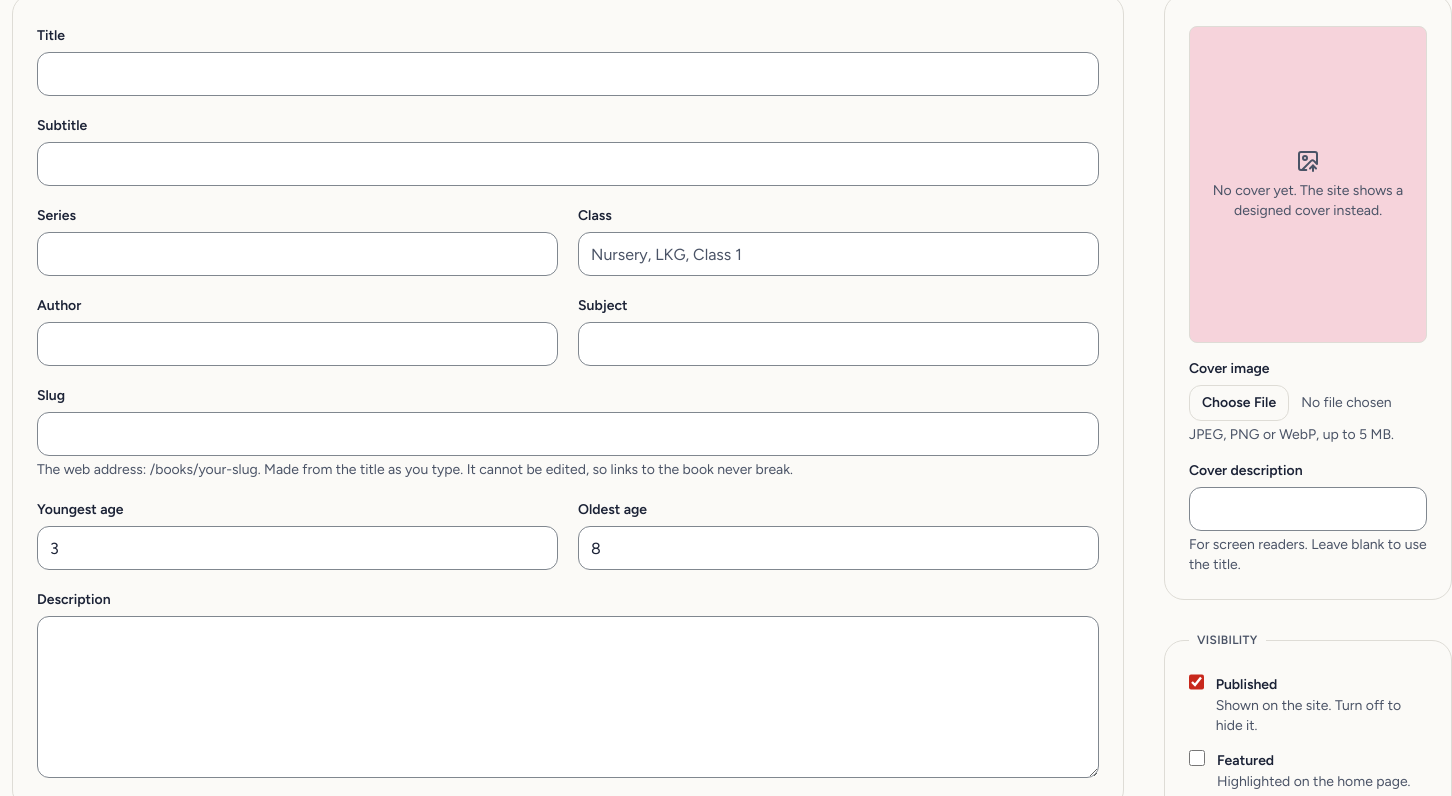
Test: BookForm › shows field errors from the API
This screenshot has width=1452, height=796.
Type "Seed to Tree" into the field labelled "Title".
click(568, 74); type("Seed to Tree")  # box left=37, top=52, right=1099, bottom=96
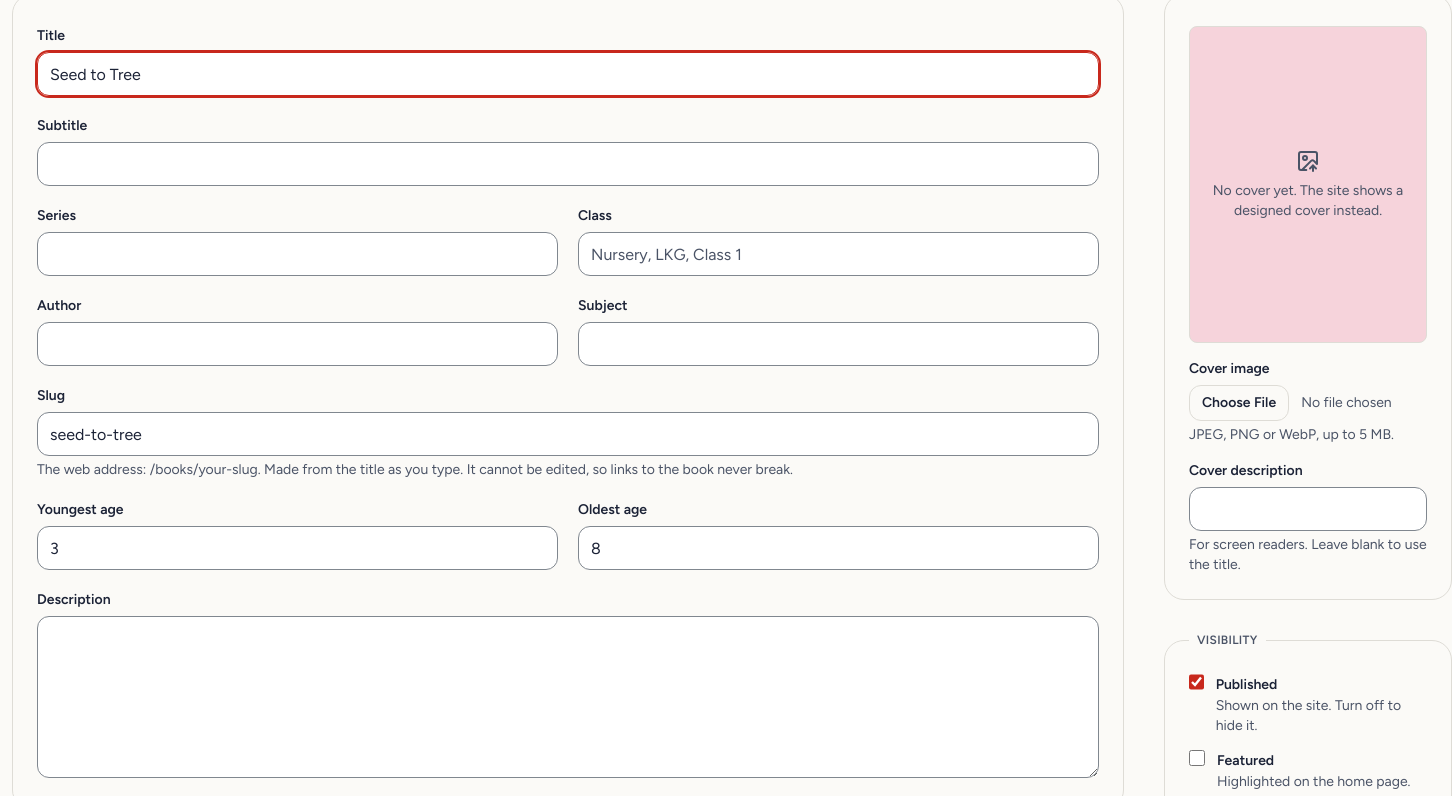
Type "A. Writer" into the field labelled "Author".
click(298, 344); type("A. Writer")  # box left=37, top=322, right=558, bottom=366
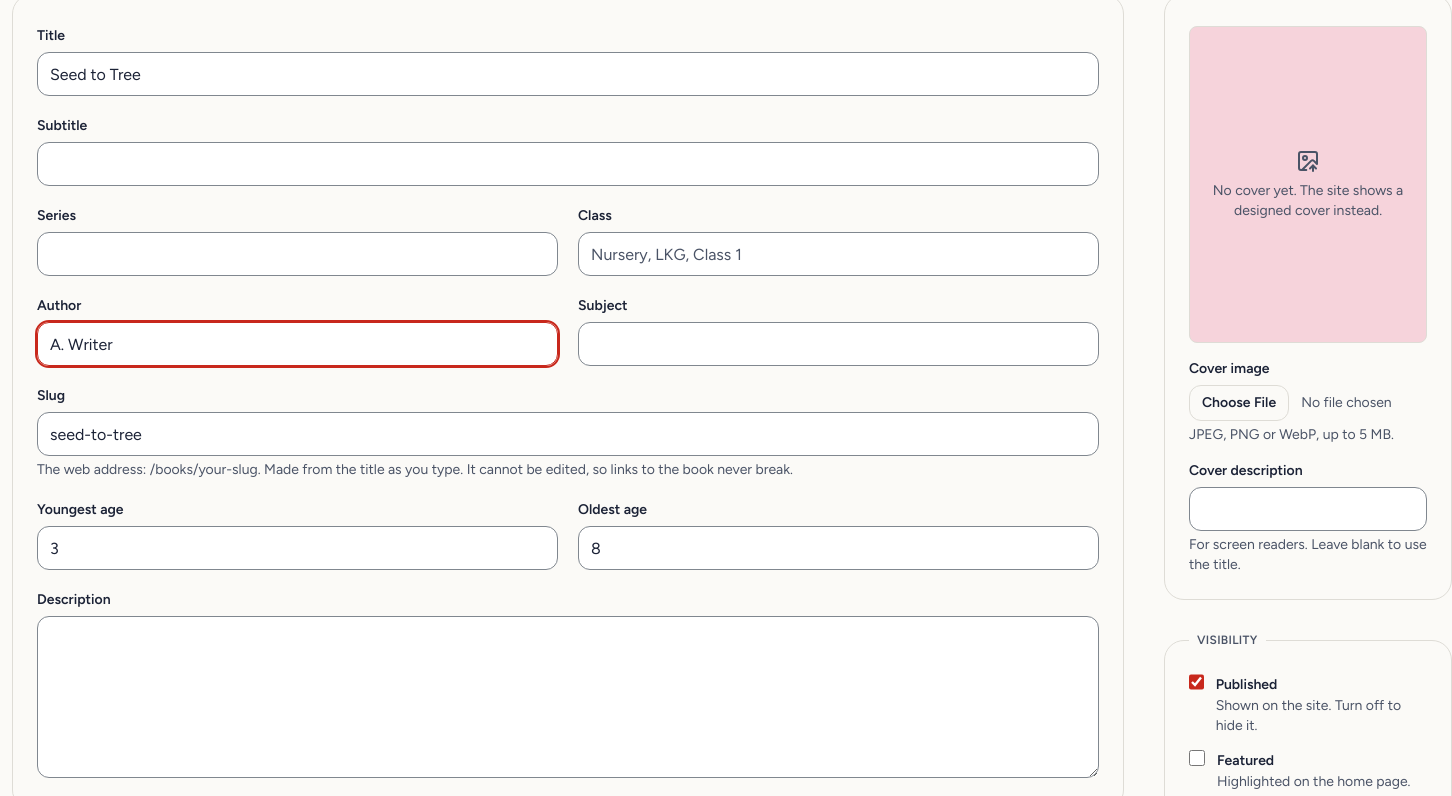
Type "Nature" into the field labelled "Subject".
click(838, 344); type("Nature")  # box left=578, top=322, right=1099, bottom=366
(page scrolled)
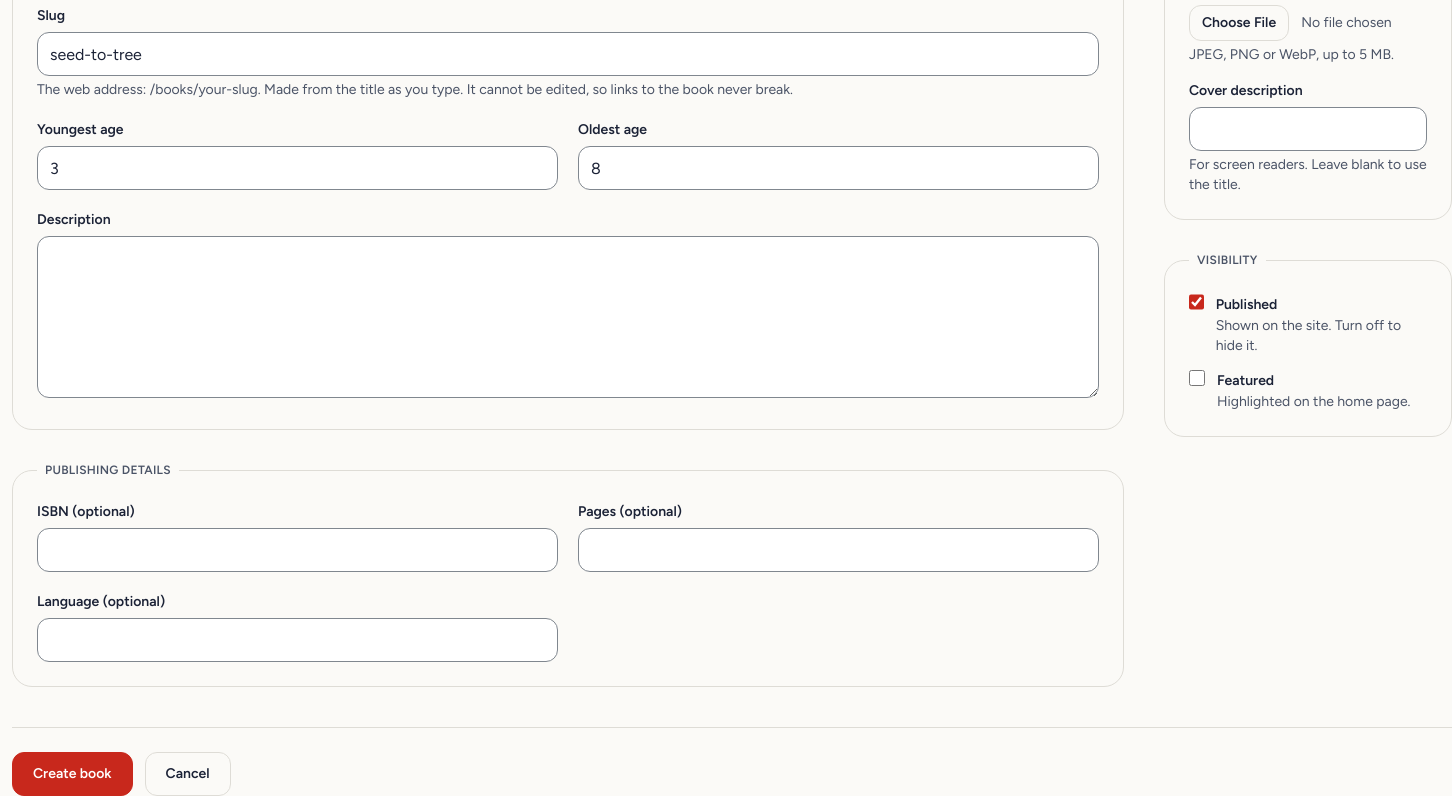
Click the button "Create book".
click(72, 774)  # box left=12, top=752, right=133, bottom=795
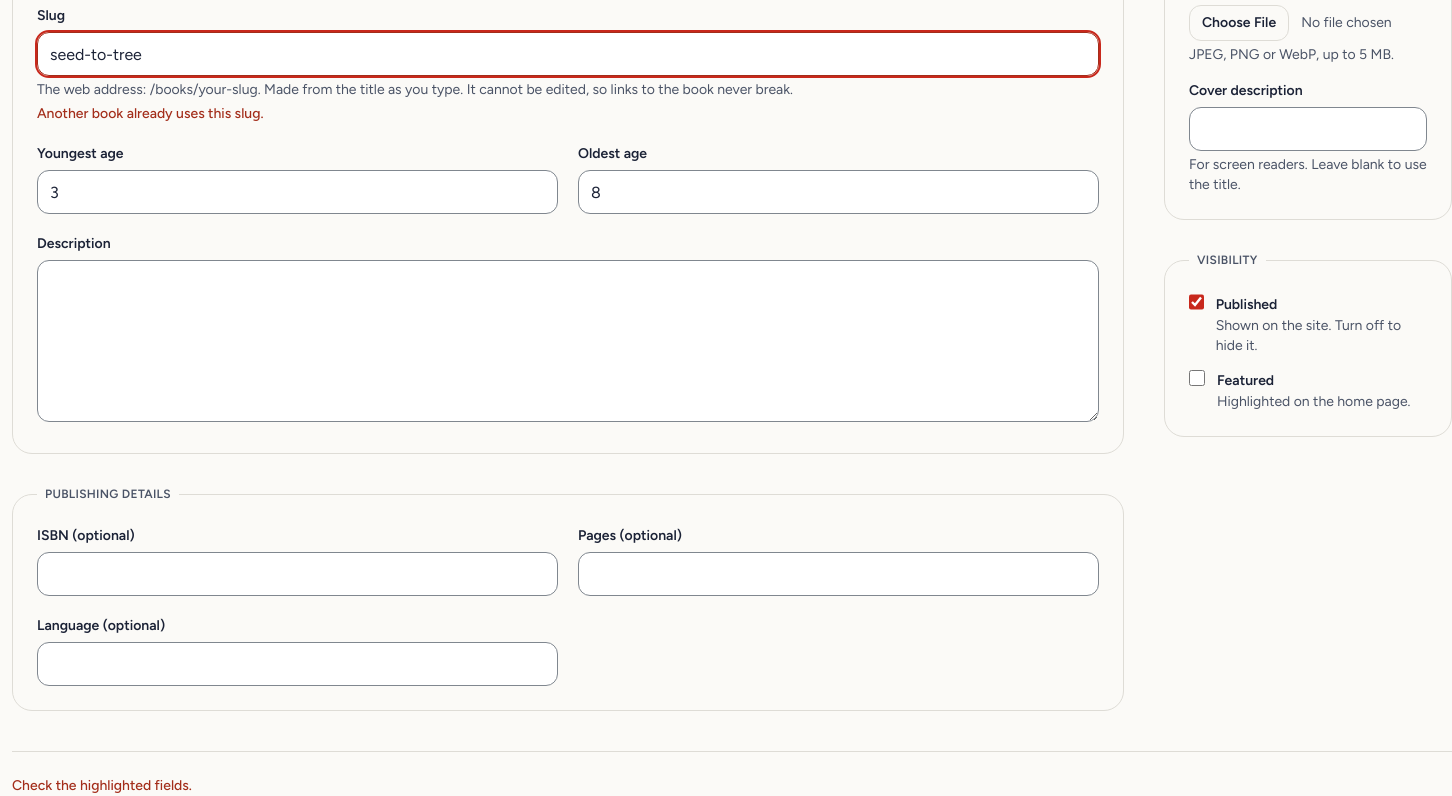
Expected: the message reads "Check the highlighted fields.", left=12, top=777, right=192, bottom=794
